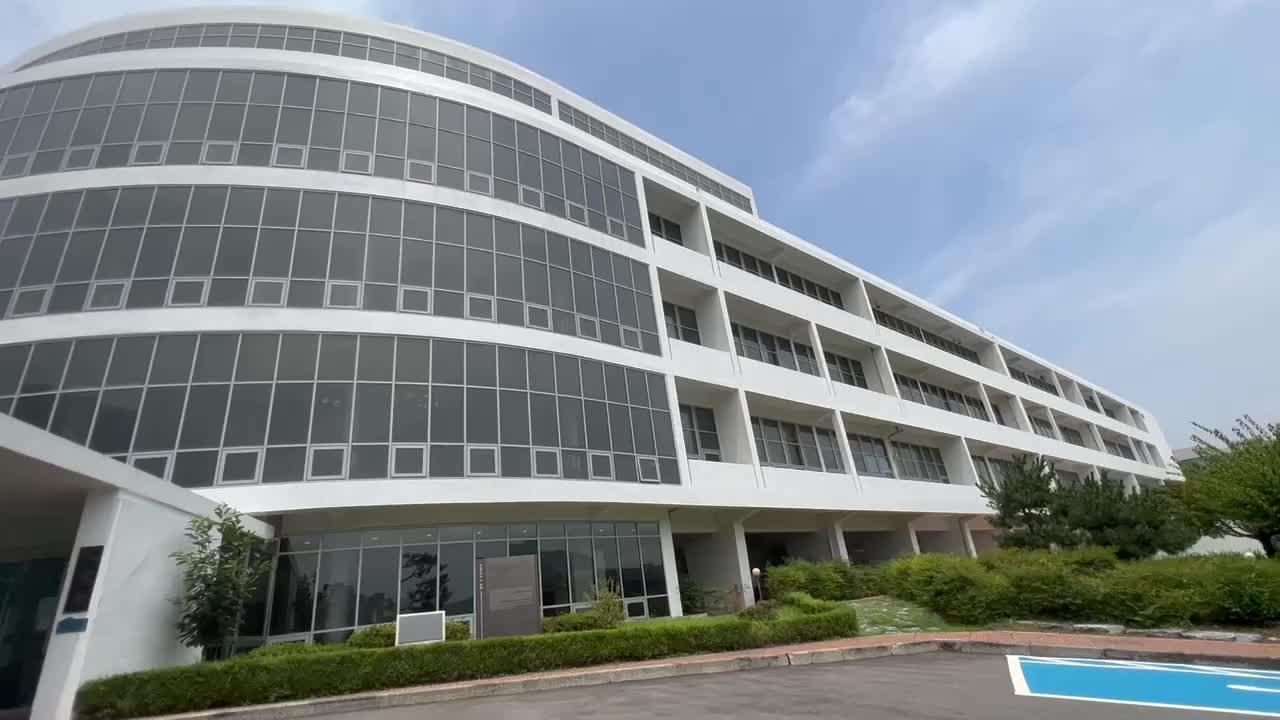building: (51, 18, 814, 591)
